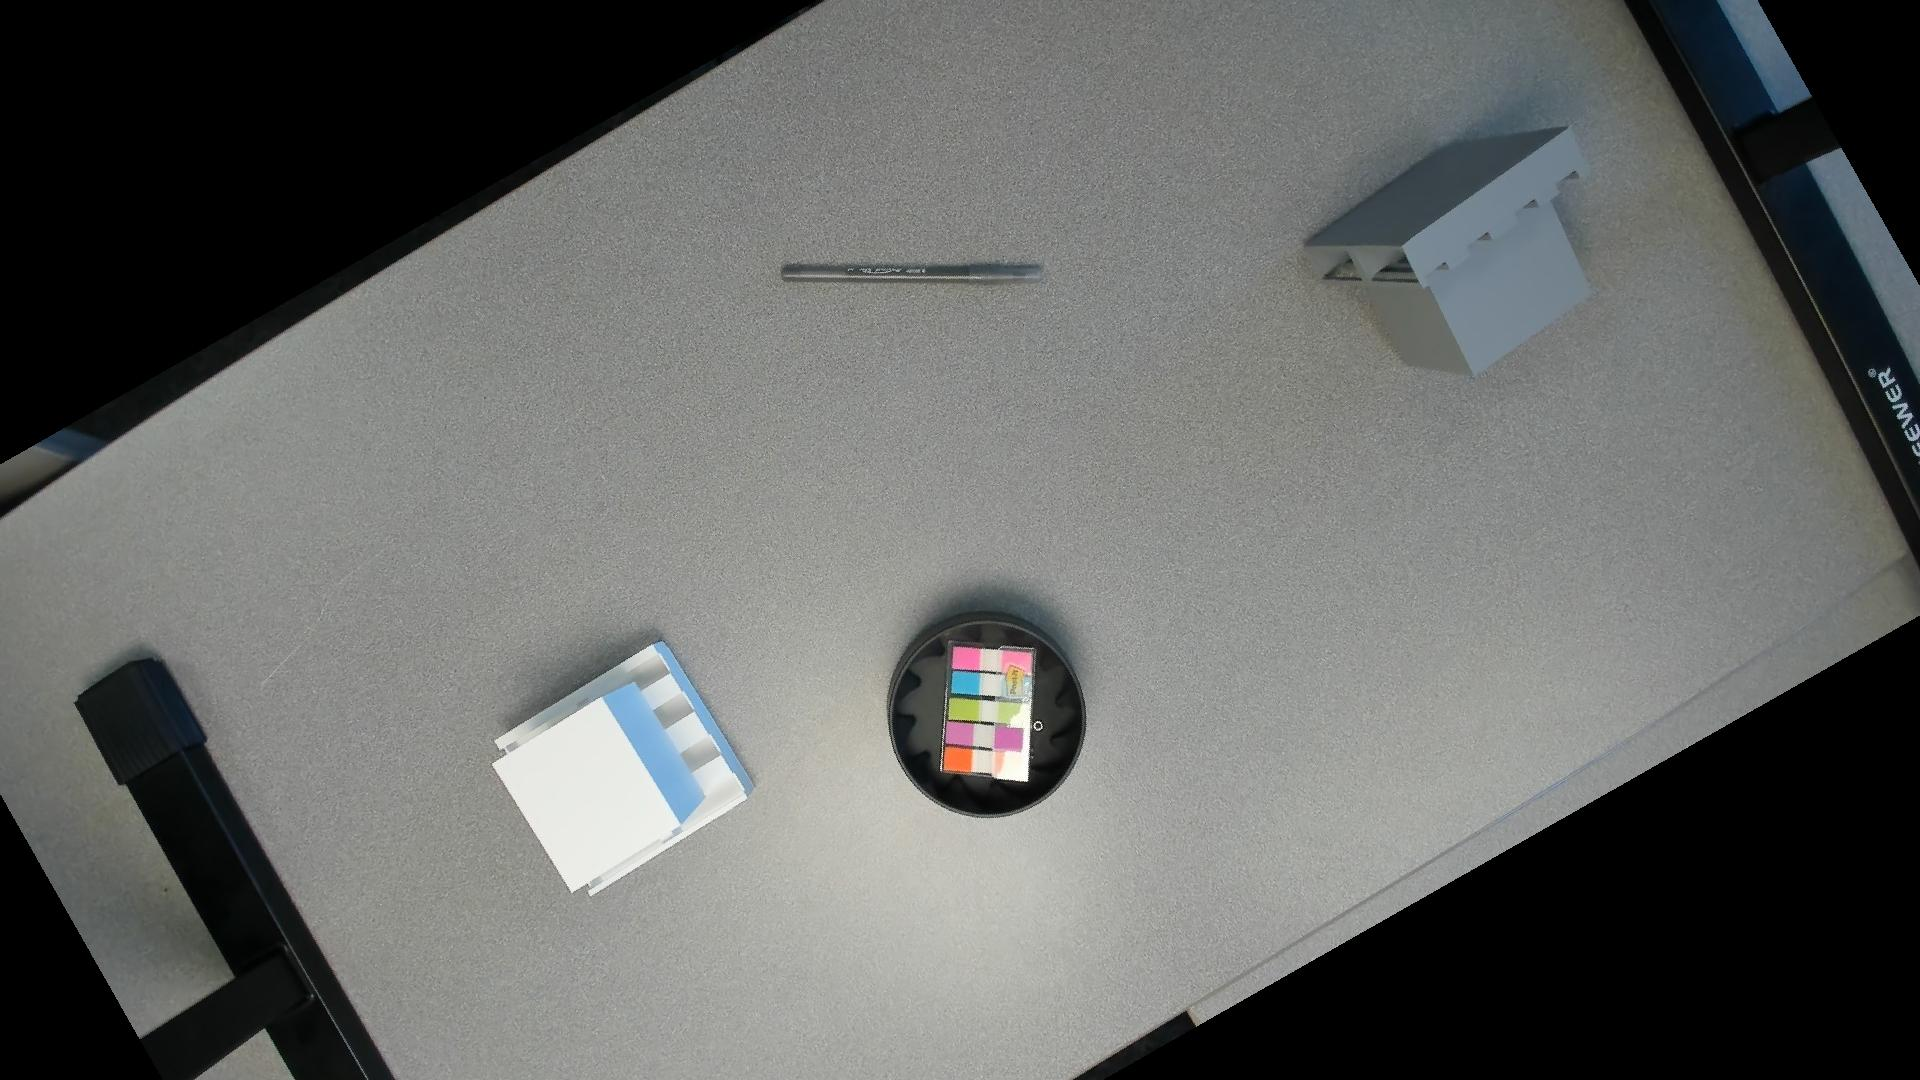grey pallet: (1294, 127, 1607, 396)
white pallet: (477, 633, 771, 915)
